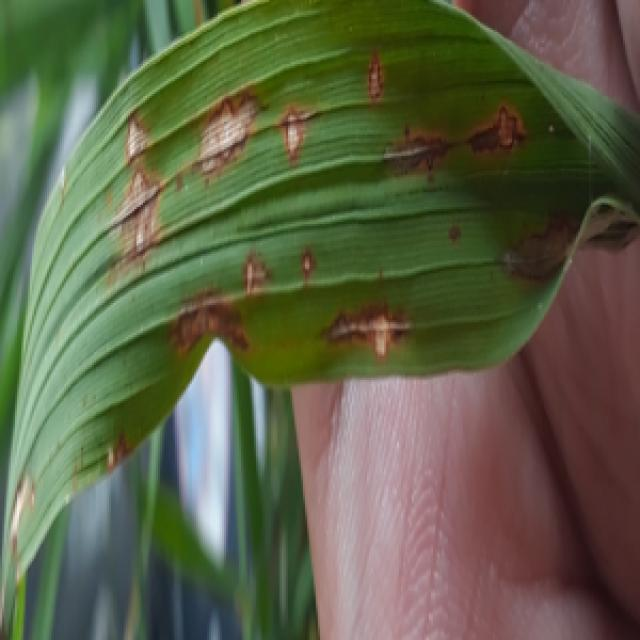Rice: (187, 72, 279, 176), (318, 292, 445, 365), (482, 205, 586, 294), (104, 161, 174, 268), (168, 284, 256, 368), (469, 91, 543, 162), (379, 129, 460, 188), (351, 31, 396, 107), (273, 94, 319, 165), (224, 240, 273, 296), (109, 106, 158, 160), (293, 231, 321, 289), (95, 438, 127, 483)
